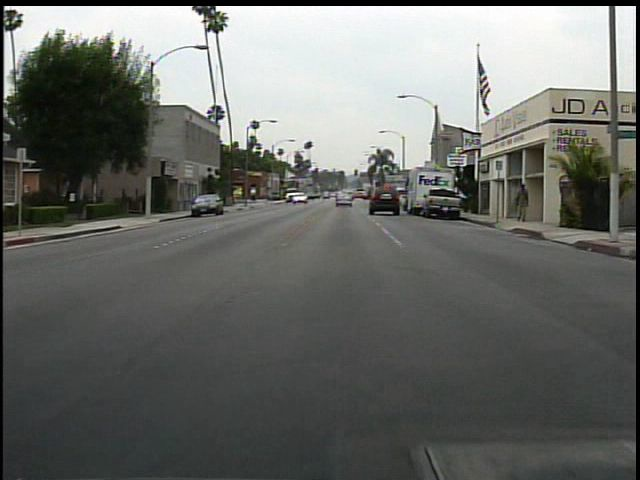person: (512, 182, 533, 223)
